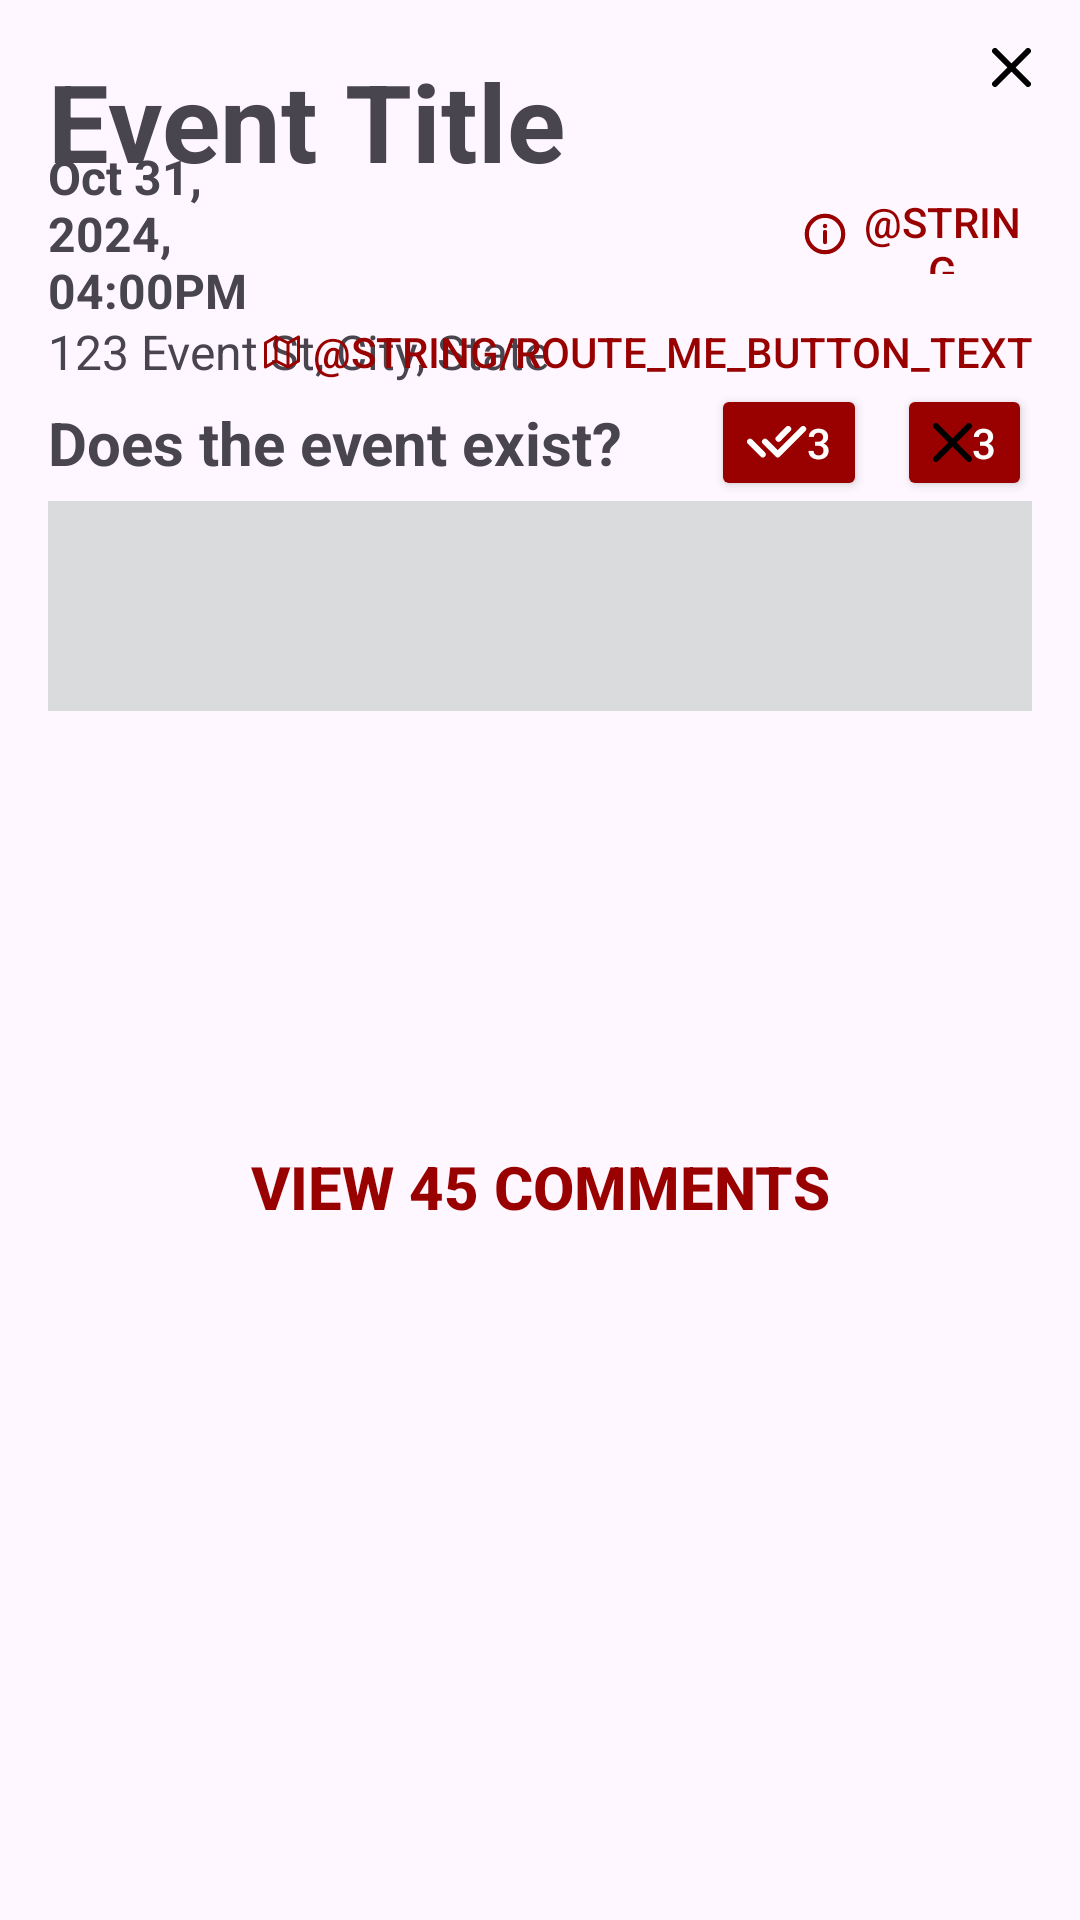

Point at icon controls on the screen. Image size 1080 × 1920, points as (x=x, y=y).
info: (x=825, y=234)
